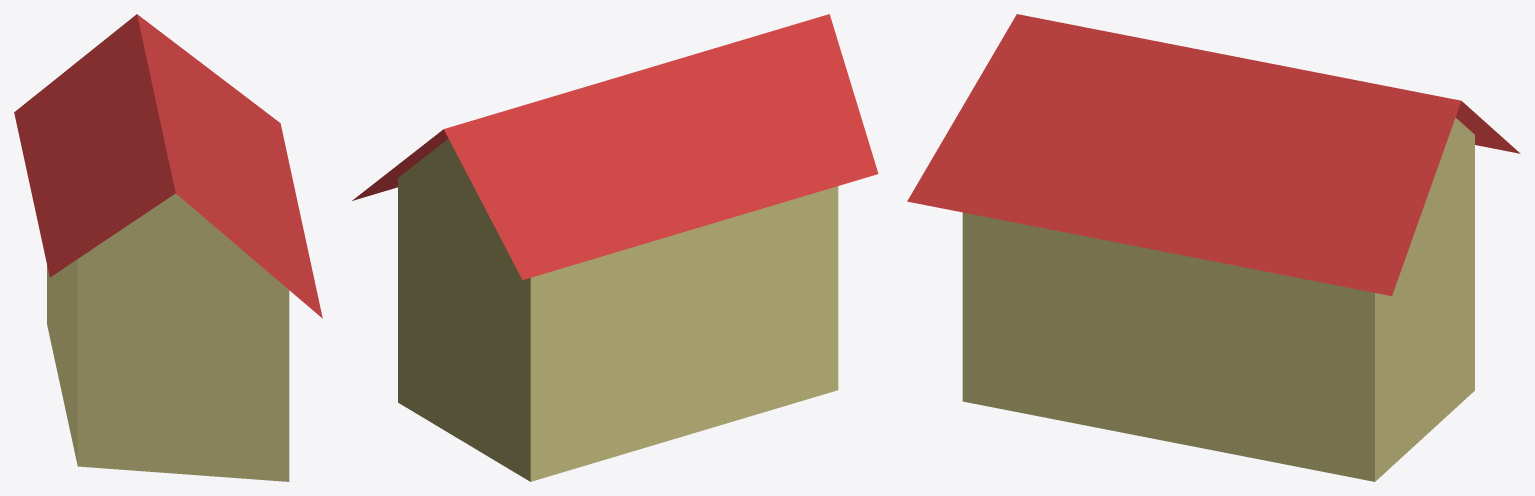
3 renders of one model, left to right at view 1: azimuth 30°, elevation 25°; view 2: azimuth 150°, elevation 25°; view 3: azimuth 270°, elevation 25°, orthographic. The views are drawn at different scales.
Size of the model in its own units: 20.3 by 26.6 by 16.11.
